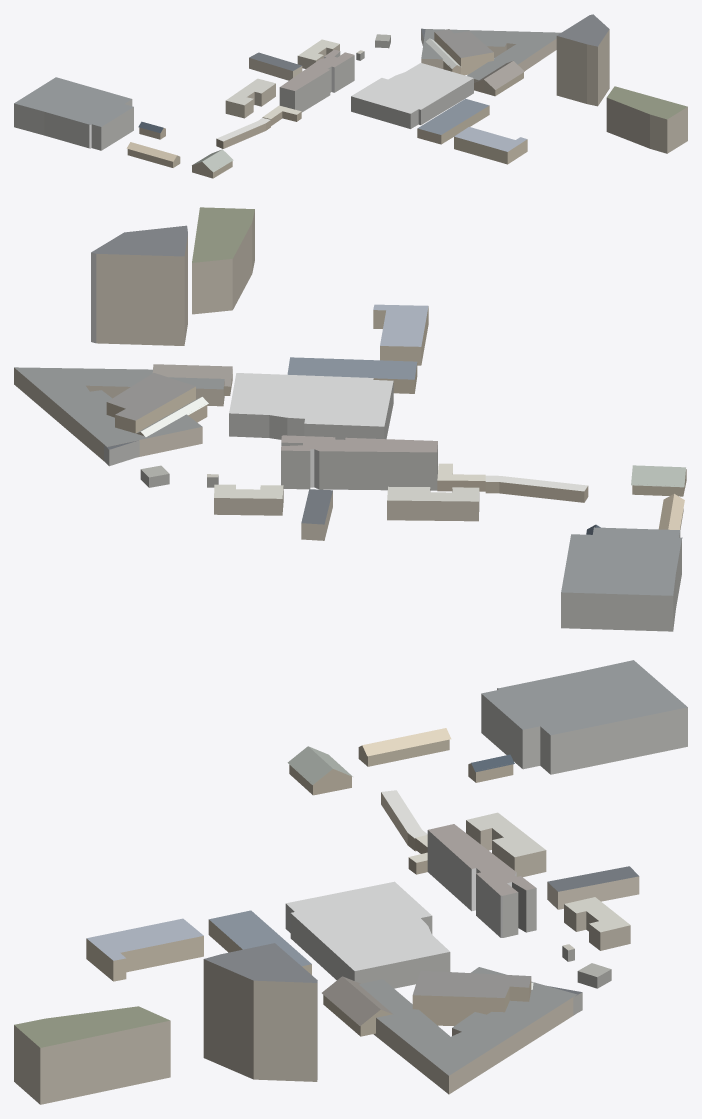
3 renders of one model, top to bottom at view 1: azimuth 30°, elevation 25°; view 2: azimuth 150°, elevation 25°; view 3: azimuth 270°, elevation 25°, orthographic. The views are drawn at different scales.
Parts seen in each view (by area): view 1: tuile; view 2: tuile; view 3: tuile.
Part boxes in pixels (x1,y1,x2,y2): tuile: [14, 14, 687, 178]; tuile: [14, 207, 686, 631]; tuile: [14, 660, 687, 1104].
Bounding box in the file's own units: 255 × 33.58 × 182.
